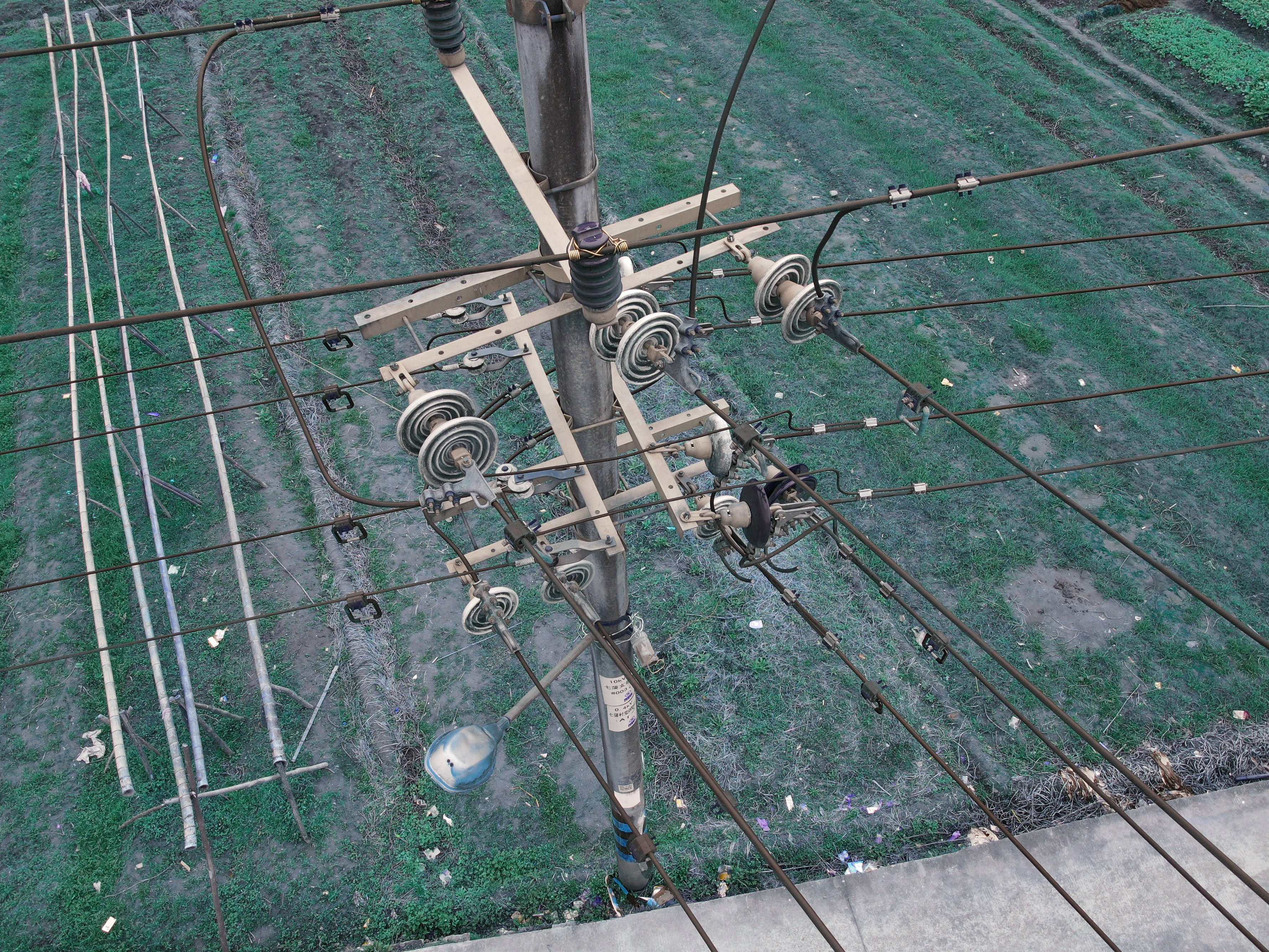severe_soiling_no_discharge_whole: (587, 287, 684, 388), (395, 390, 498, 485), (747, 252, 843, 345), (684, 413, 735, 480), (461, 583, 522, 636), (538, 557, 596, 605), (506, 474, 536, 498), (461, 353, 489, 375), (495, 462, 518, 481), (444, 306, 468, 323)
